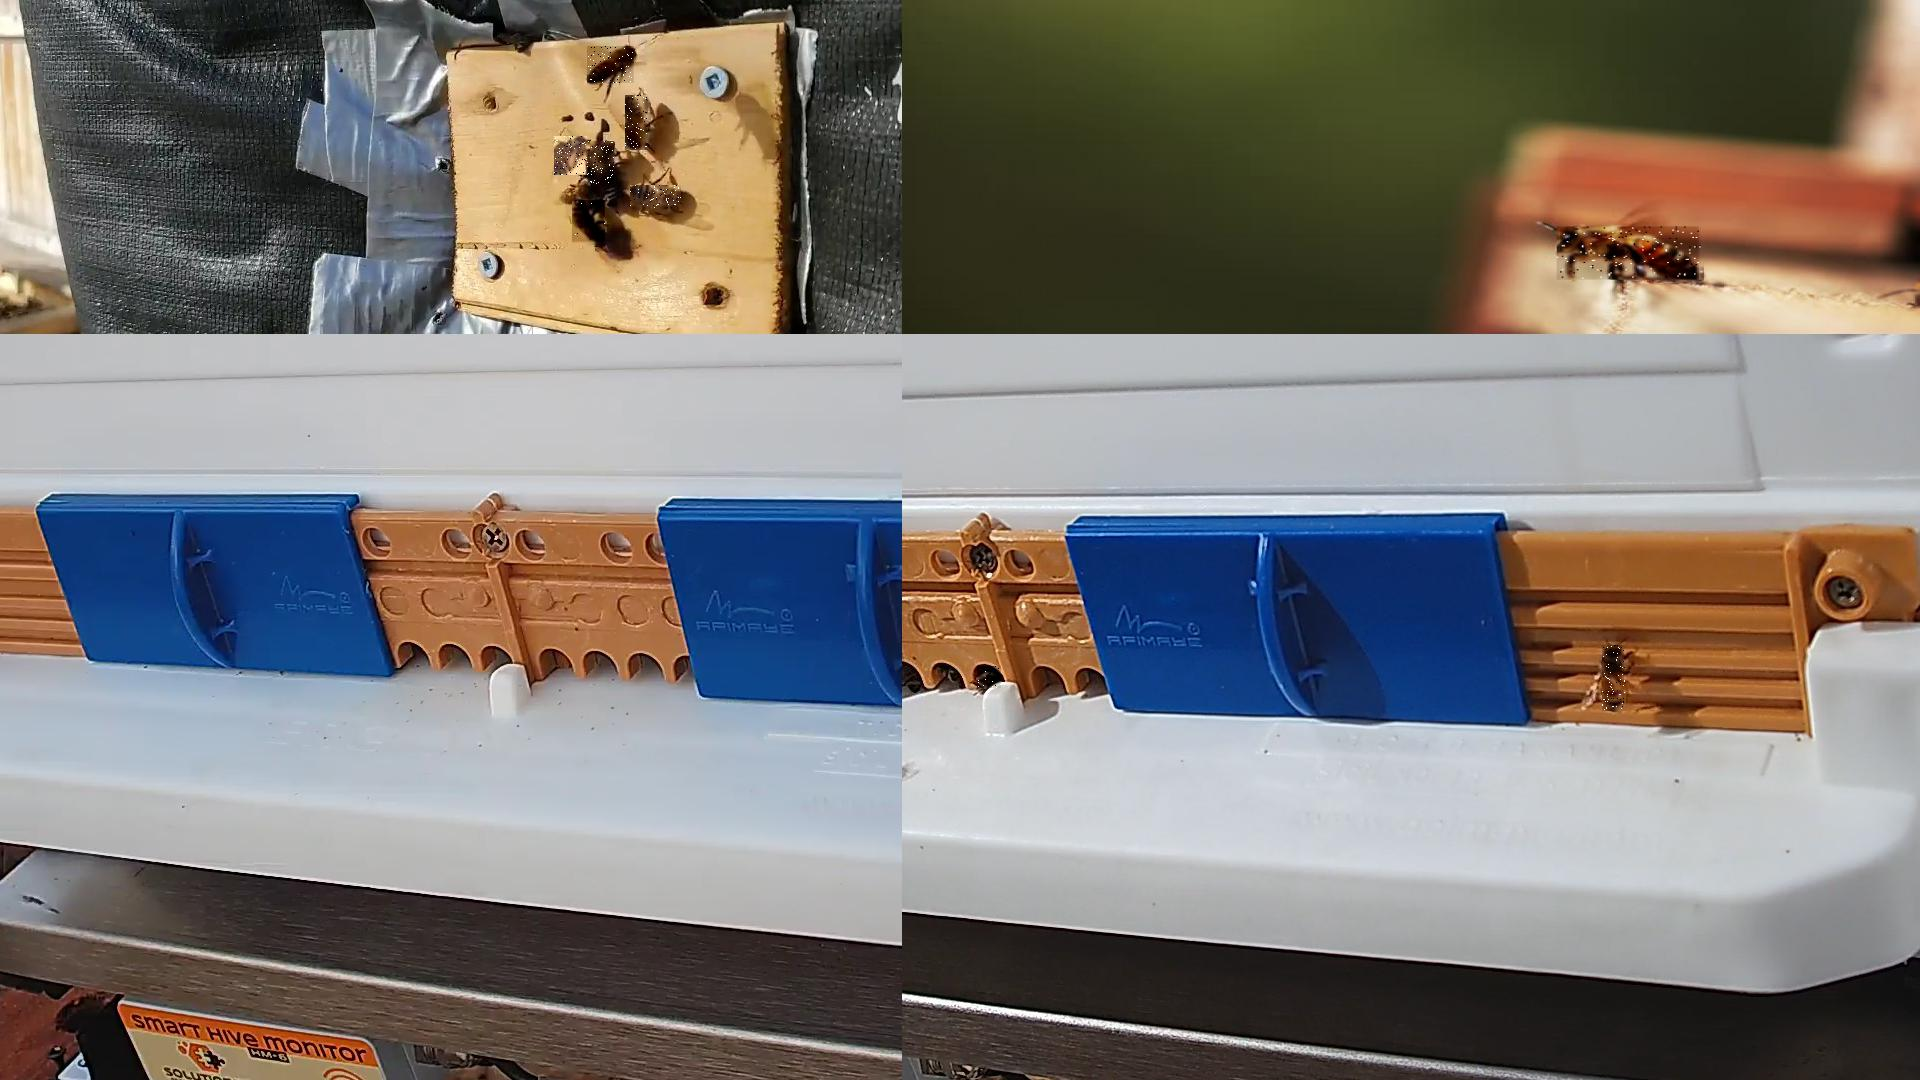bee: (1559, 227, 1705, 281), (587, 46, 636, 84), (1604, 645, 1627, 712), (572, 200, 607, 245), (555, 136, 591, 177), (625, 95, 649, 152), (630, 186, 682, 210), (591, 141, 616, 185), (977, 666, 1002, 690)
